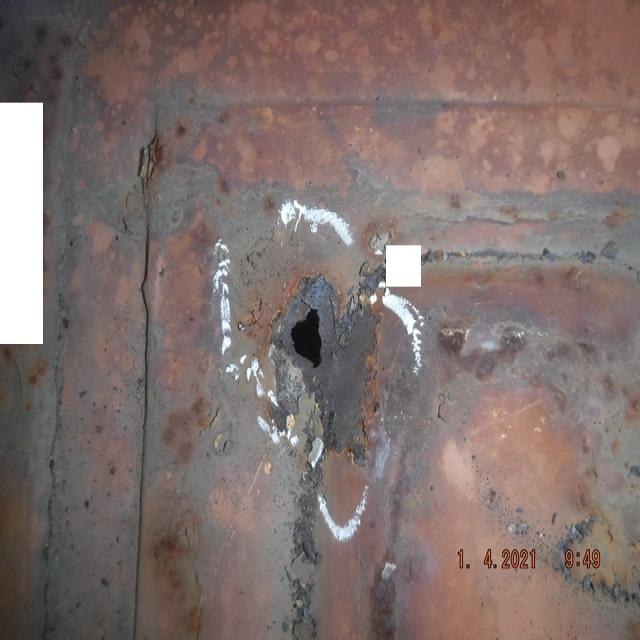hole: (283, 295, 344, 376)
